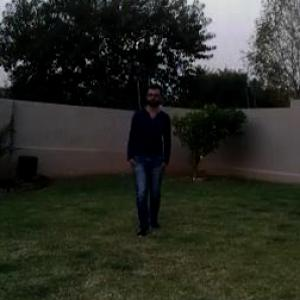follow: (121, 79, 175, 235)
